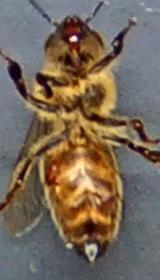varroa_mite: (41, 151, 67, 187)
